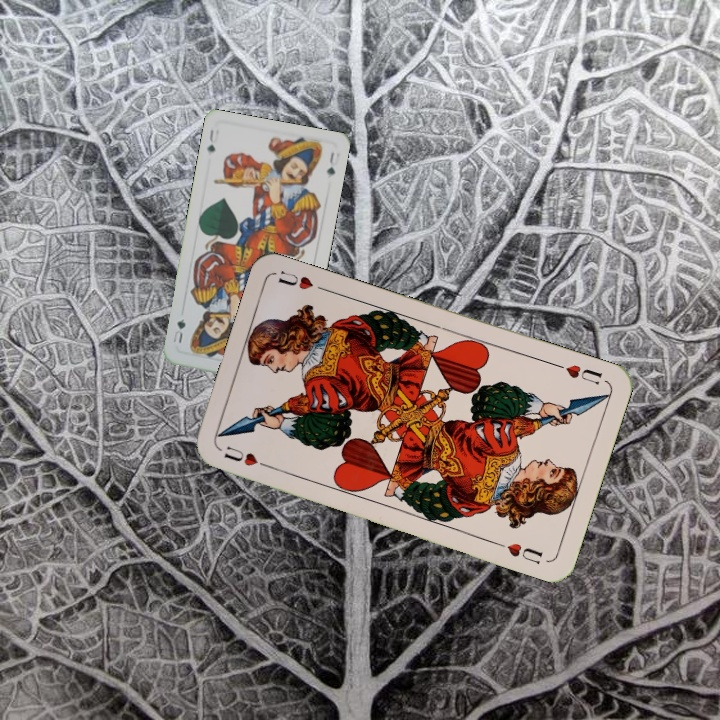GU: (203, 124, 218, 155)
HU: (220, 441, 275, 471), (550, 359, 605, 387)
